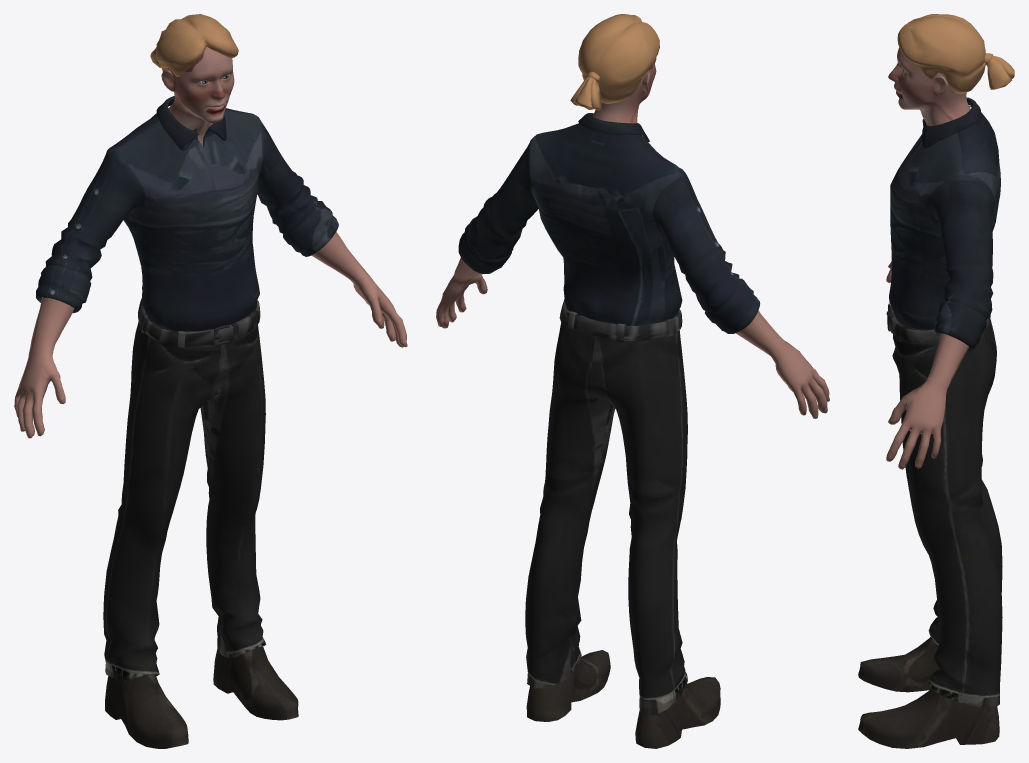
File: MyAvatarV2-transformed.glb
3 views of the same model, side by side, from view 1: azimuth 30°, elevation 25°; view 2: azimuth 150°, elevation 25°; view 3: azimuth 270°, elevation 25° (orthographic).
Parts seen in each view (by area): view 1: Wolf3D_Outfit_Bottom, Wolf3D_Outfit_Top, Wolf3D_Outfit_Footwear, Wolf3D_Body, Wolf3D_Head, Wolf3D_Hair; view 2: Wolf3D_Outfit_Bottom, Wolf3D_Outfit_Top, Wolf3D_Outfit_Footwear, Wolf3D_Hair, Wolf3D_Body, Wolf3D_Head; view 3: Wolf3D_Outfit_Bottom, Wolf3D_Outfit_Top, Wolf3D_Outfit_Footwear, Wolf3D_Hair, Wolf3D_Body, Wolf3D_Head.
Boxes of the visible parts, x1=… form: Wolf3D_Outfit_Bottom: x1=103, y1=298, x2=266, y2=679; Wolf3D_Outfit_Top: x1=36, y1=96, x2=338, y2=331; Wolf3D_Outfit_Footwear: x1=105, y1=646, x2=298, y2=748; Wolf3D_Body: x1=14, y1=232, x2=407, y2=438; Wolf3D_Head: x1=161, y1=47, x2=234, y2=144; Wolf3D_Hair: x1=150, y1=14, x2=238, y2=76; Wolf3D_Outfit_Bottom: x1=525, y1=299, x2=687, y2=715; Wolf3D_Outfit_Top: x1=458, y1=113, x2=760, y2=333; Wolf3D_Outfit_Footwear: x1=526, y1=650, x2=720, y2=748; Wolf3D_Hair: x1=570, y1=14, x2=659, y2=110; Wolf3D_Body: x1=436, y1=257, x2=829, y2=418; Wolf3D_Head: x1=592, y1=64, x2=656, y2=123; Wolf3D_Outfit_Bottom: x1=886, y1=303, x2=1002, y2=707; Wolf3D_Outfit_Top: x1=889, y1=97, x2=1000, y2=351; Wolf3D_Outfit_Footwear: x1=858, y1=637, x2=999, y2=748; Wolf3D_Hair: x1=897, y1=14, x2=1014, y2=94; Wolf3D_Body: x1=886, y1=261, x2=968, y2=469; Wolf3D_Head: x1=888, y1=47, x2=970, y2=126.
Bounding box in the file's own units: 1.06 × 1.85 × 0.3787.
8 materials, 8 textured.
